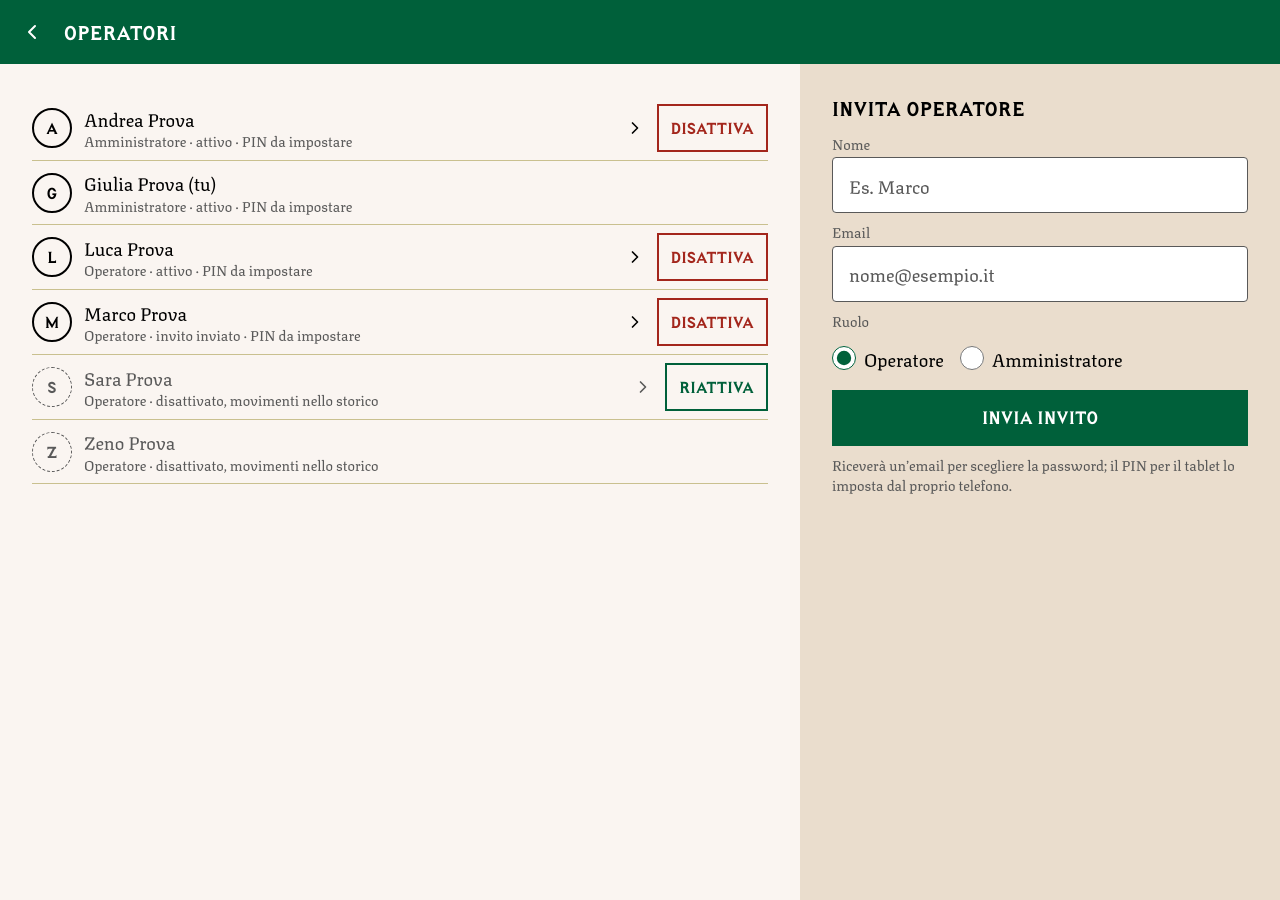
Test case: OperatorDialog: the role › demotes after the second confirmation
This screenshot has width=1280, height=900.
Click the button "Andrea Prova Amministratore · attivo · PIN da impostare": (139, 118) [84,104,644,152]
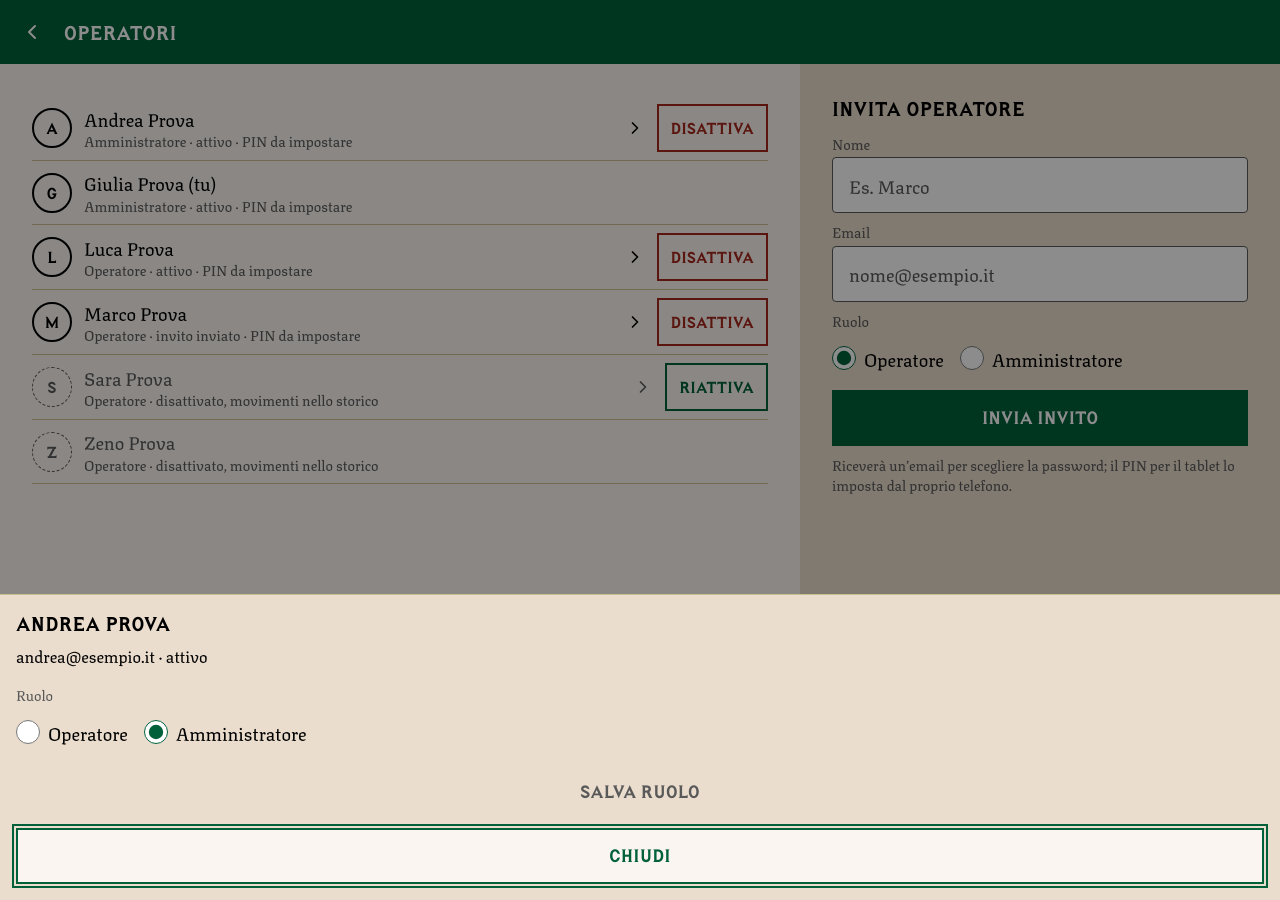
Result: the radio button labelled "Amministratore" is checked at [144,720,168,744]
Click the radio button labelled "Operatore": (28, 732) [16,720,40,744]
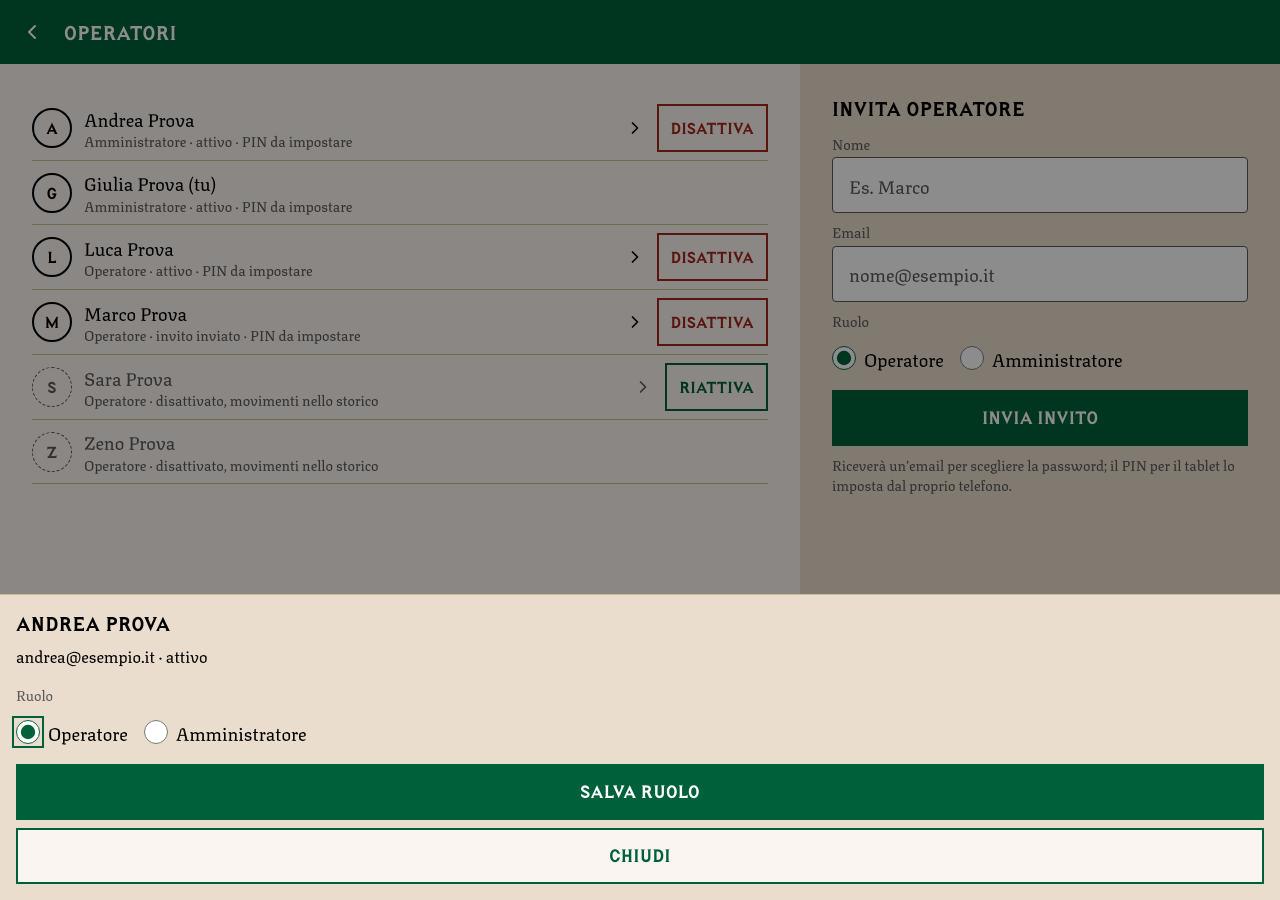
Click the button "Salva ruolo": (640, 792) [16,764,1264,820]
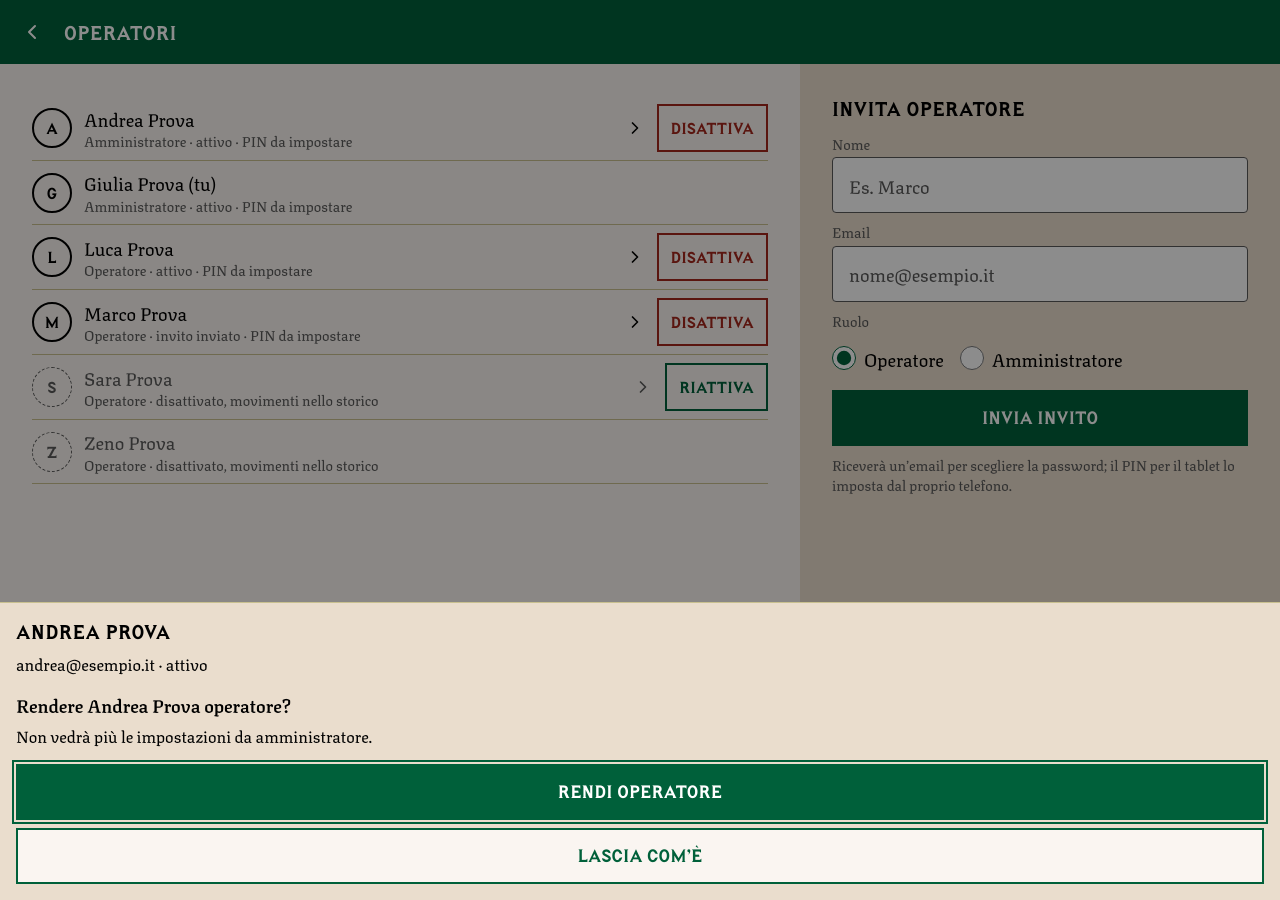
Result: the text "Rendere Andrea Prova operatore?" is shown at [16,690,291,718]
Result: the text "Non vedrà più le impostazioni da amministratore." is shown at [16,723,372,748]
Click the button "Rendi operatore": (640, 792) [16,764,1264,820]
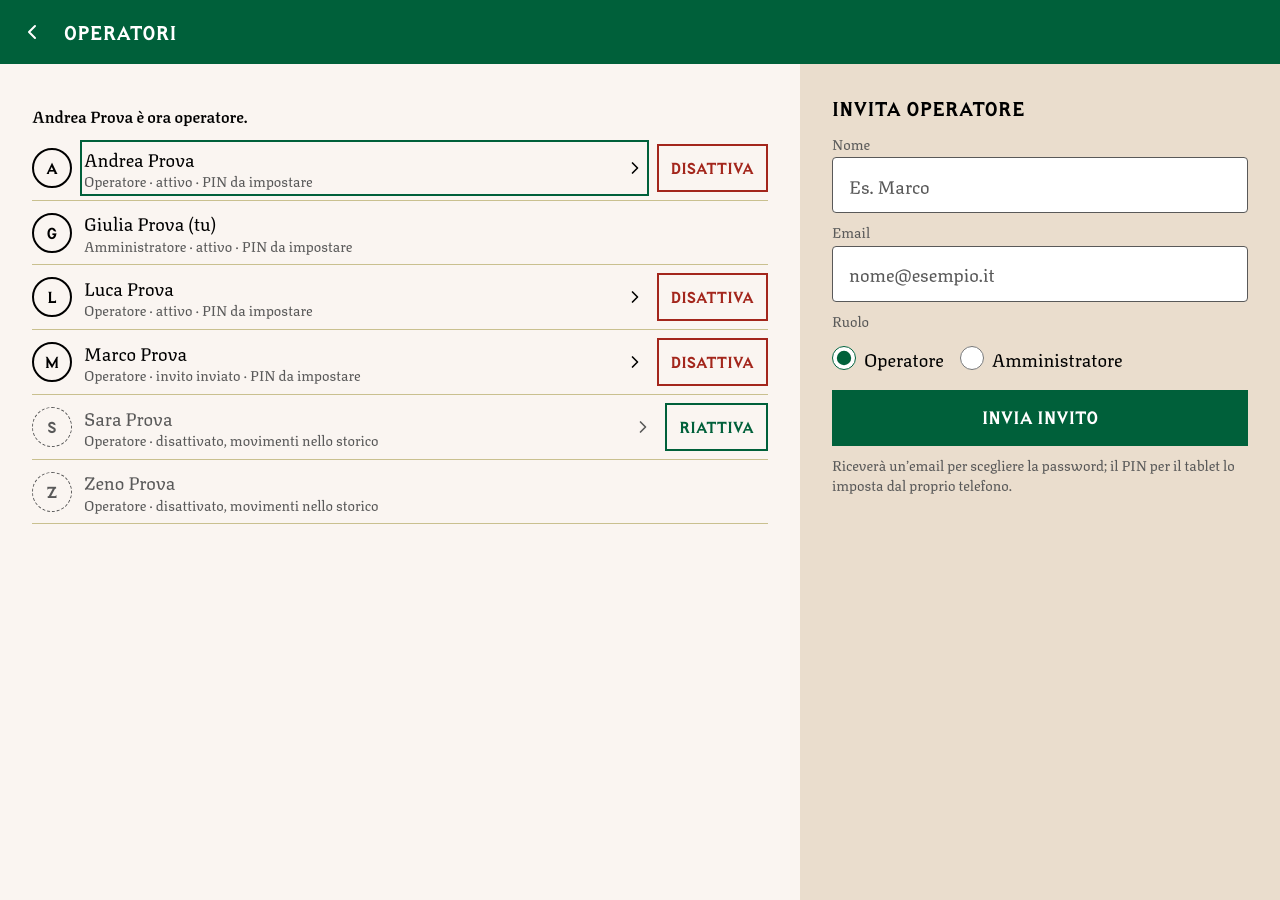
Result: the text "Andrea Prova è ora operatore." is shown at [32,103,248,128]
